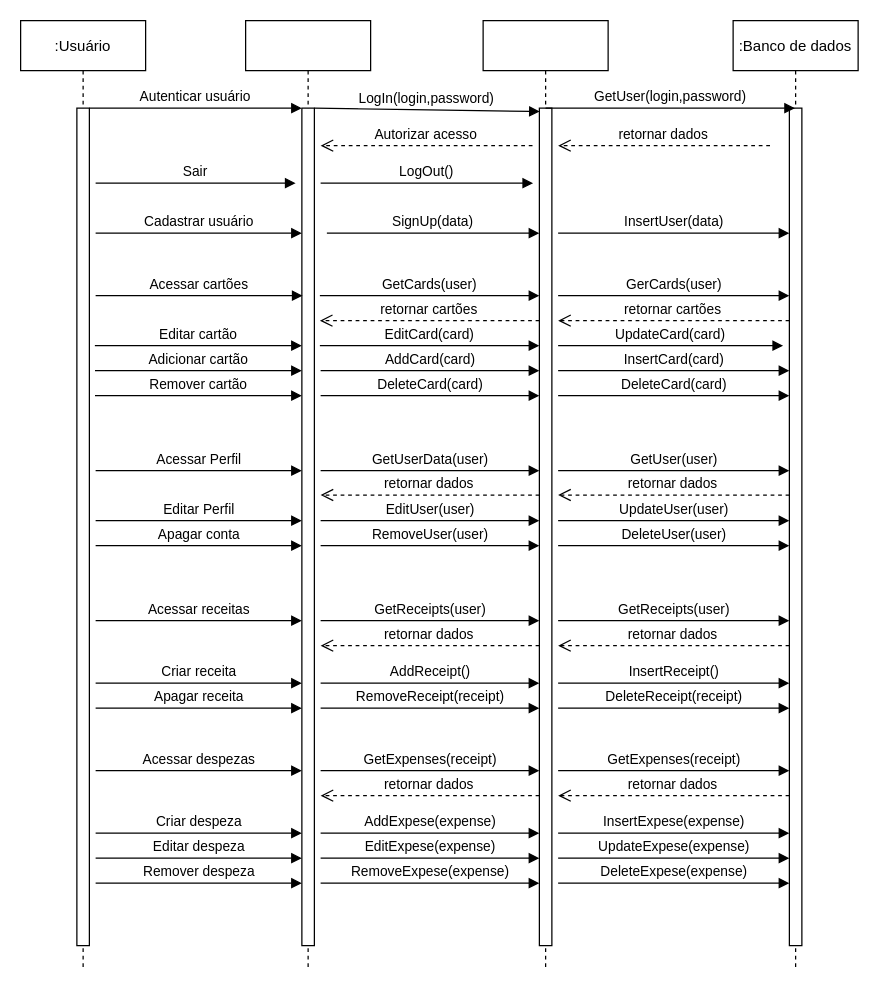
The diagram is 879 pixels wide and 991 high, and some of its shapes have lost their labels. The box of each missing label's shape, as (x1, y1, x2, y2) in pixels:
:API: (482, 19, 608, 971)
:Web: (244, 19, 371, 971)
